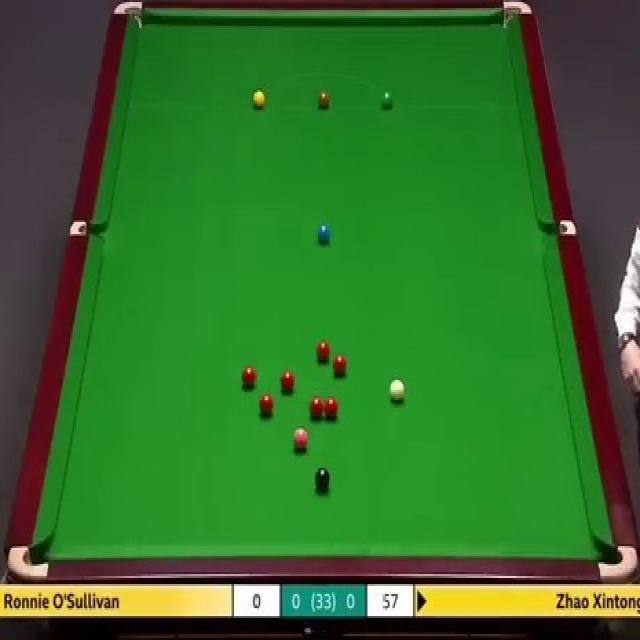black-ball: (314, 467, 331, 493)
blue-ball: (316, 223, 331, 245)
brown-ball: (316, 88, 331, 110)
green-ball: (380, 90, 395, 110)
pink-ball: (292, 426, 310, 453)
red-ball: (332, 352, 349, 378), (279, 368, 295, 395), (240, 366, 257, 391), (315, 339, 332, 364), (259, 394, 274, 416), (309, 396, 324, 418), (325, 396, 339, 418)
white-ball: (389, 378, 405, 404)
yellow-ball: (252, 88, 265, 109)
